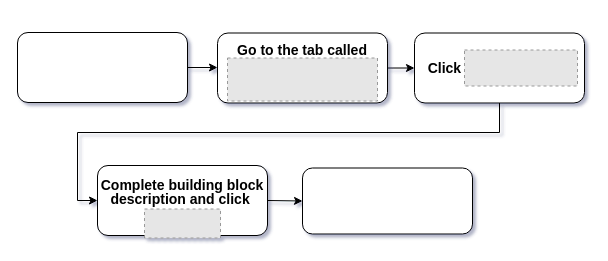
The diagram is 608 pixels wide and 261 high, and some of its shapes have lost their labels. Grey dashed boxes stand in for pictures. The centre of each missing label's shape, as x and y in pixels:
"Customise building block" goes at point 387,200.
"Login to forms4health" goes at point 102,67.
